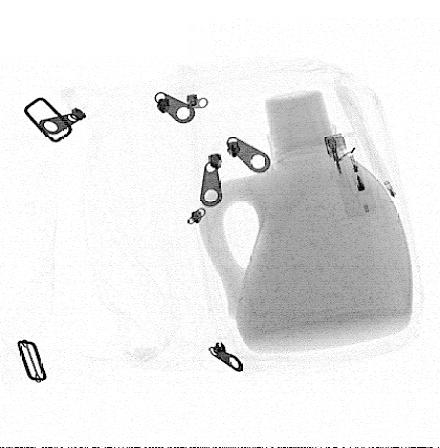Lighter: (324, 131, 377, 217)
